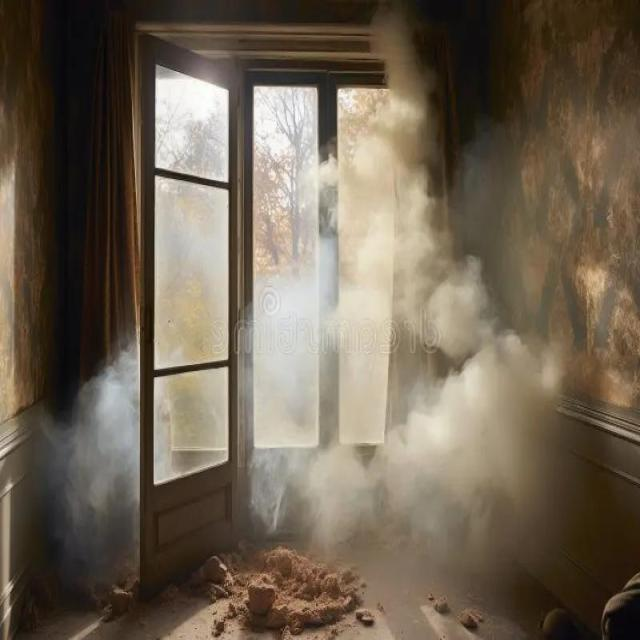smoke: (235, 174, 576, 555)
